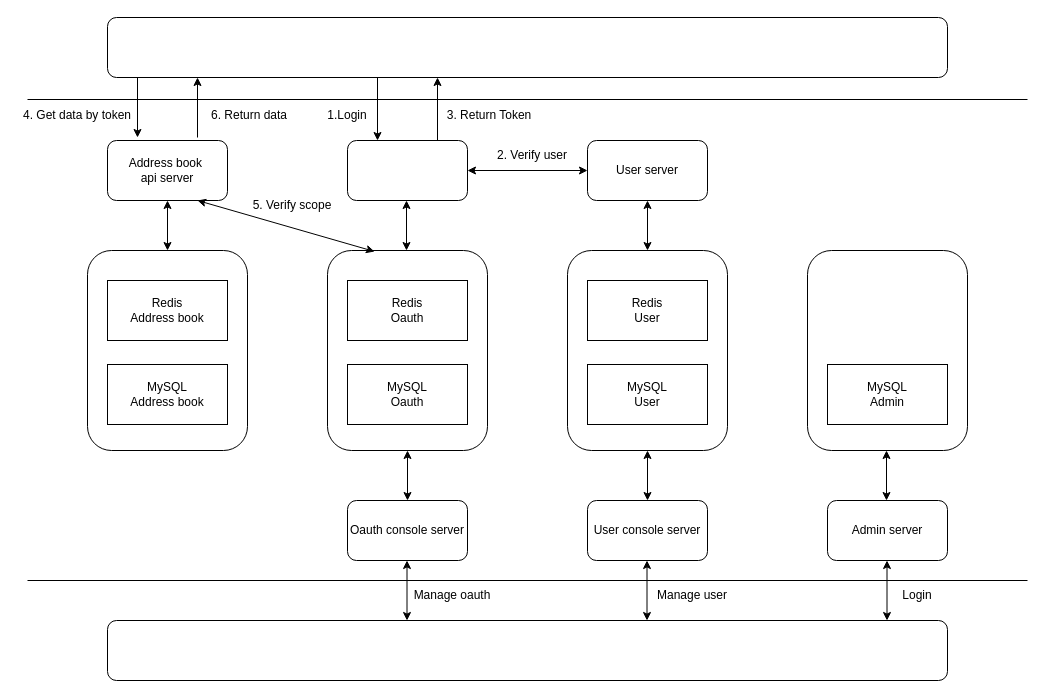
Image size: 1046x698. Some labels were removed from this diagram. Here are the shapes that lost their labels. From the top down, the centre of each, then its label:
(x=527, y=47): Client App
(x=407, y=170): Oauth auth server
(x=527, y=650): Admin App
